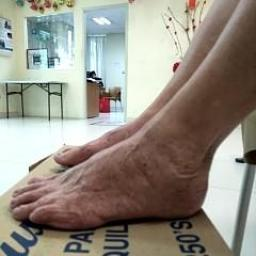Lateral View -Left Foot-: (3, 112, 222, 242)
